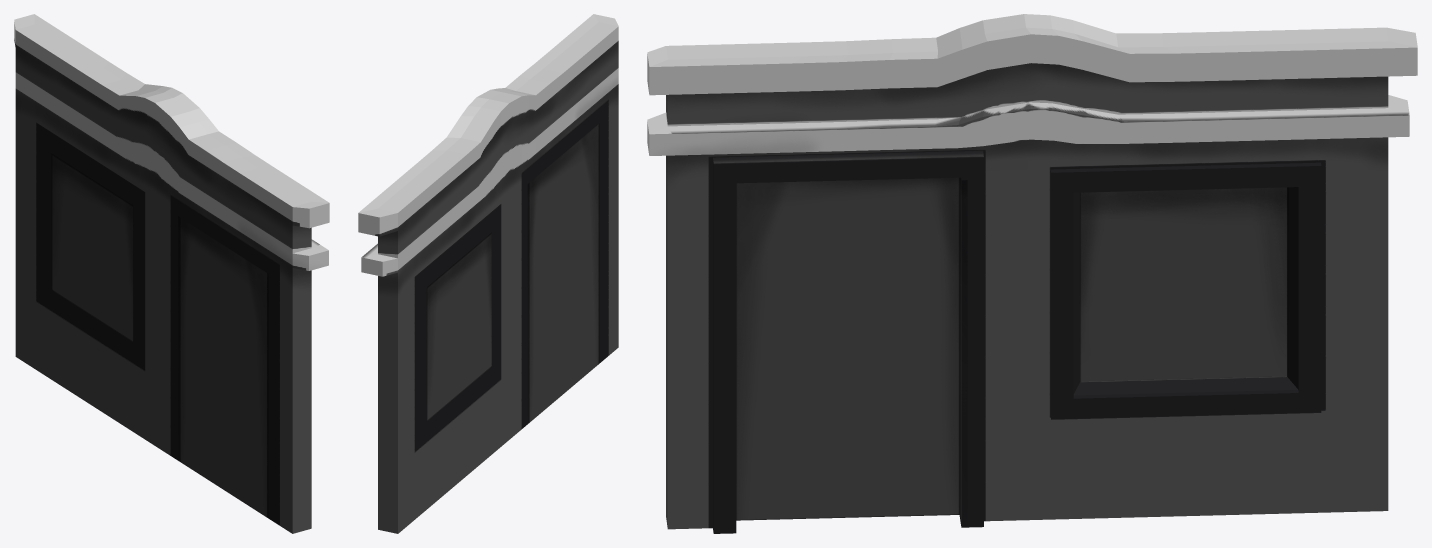
The model's file is casa5.fbx.
3 views of the same model, side by side, from view 1: azimuth 30°, elevation 25°; view 2: azimuth 150°, elevation 25°; view 3: azimuth 270°, elevation 25° (orthographic). The views are drawn at different scales.
Visible parts, largest first — view 1: casa base.001; view 2: casa base.001; view 3: casa base.001.
Part boxes in pixels (bbox=[...]): casa base.001: bbox=[14, 14, 329, 533]; casa base.001: bbox=[358, 14, 618, 533]; casa base.001: bbox=[647, 14, 1417, 533].
Size of the model in its own units: 26.25 by 150 by 212.
Materials: 1 (1 with a texture image).
